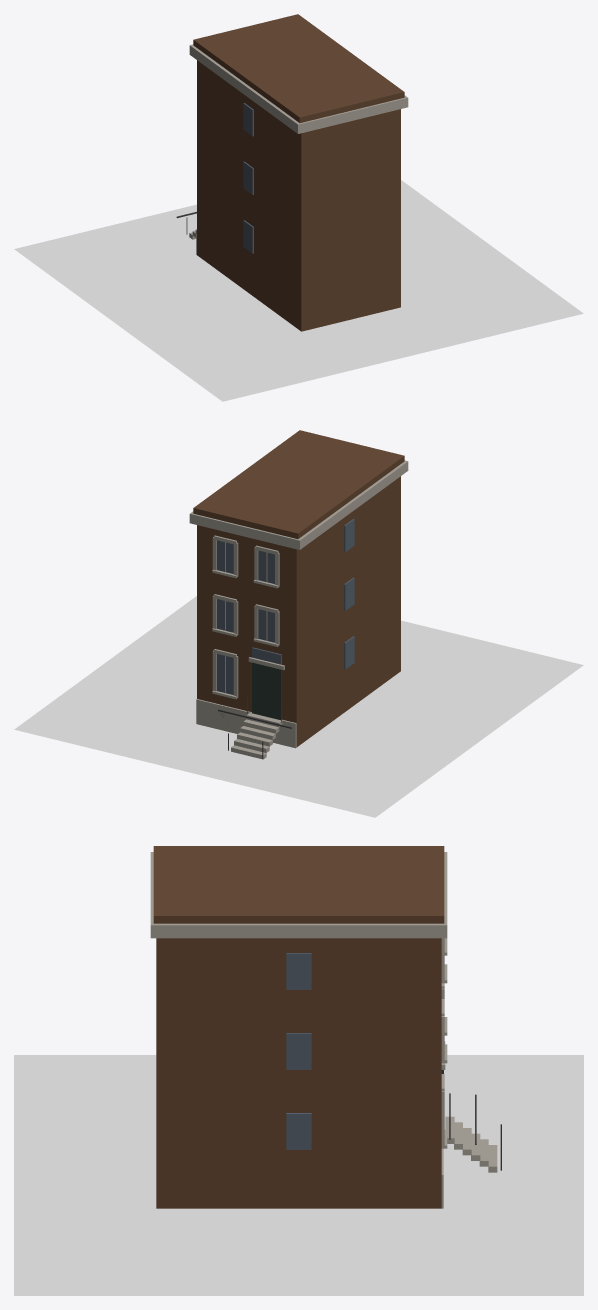
File: brownstone-c.glb
3 renders of one model, top to bottom at view 1: azimuth 30°, elevation 25°; view 2: azimuth 150°, elevation 25°; view 3: azimuth 270°, elevation 25°, orthographic. The views are drawn at different scales.
Visible parts, largest first — view 1: Plane, Cube, Cube.003, Cube.002; view 2: Plane, Cube, Cube.003, Cube.002, Cube.001, Cube.004, Cube.016, Cube.022, Cube.034; view 3: Plane, Cube, Cube.003, Cube.002, Cube.049, Cube.050, Cube.051.
Boxes of the visible parts, x1,y1,x2,y2 form: Plane: (14, 180, 583, 401); Cube: (197, 60, 400, 331); Cube.003: (193, 14, 404, 122); Cube.002: (189, 44, 408, 133); Plane: (14, 596, 583, 817); Cube: (197, 476, 400, 747); Cube.003: (193, 430, 404, 538); Cube.002: (189, 460, 408, 549); Cube.001: (196, 699, 296, 748); Cube.004: (252, 662, 281, 719); Cube.016: (217, 654, 233, 694); Cube.022: (258, 609, 274, 642); Cube.034: (258, 550, 274, 583); Plane: (14, 1055, 583, 1295); Cube: (156, 938, 441, 1208); Cube.003: (153, 846, 444, 923); Cube.002: (150, 852, 447, 938); Cube.049: (286, 1113, 311, 1149); Cube.050: (286, 1033, 311, 1069); Cube.051: (286, 953, 311, 989).
Bounding box in the file's own units: 20 × 11.4 × 20.
